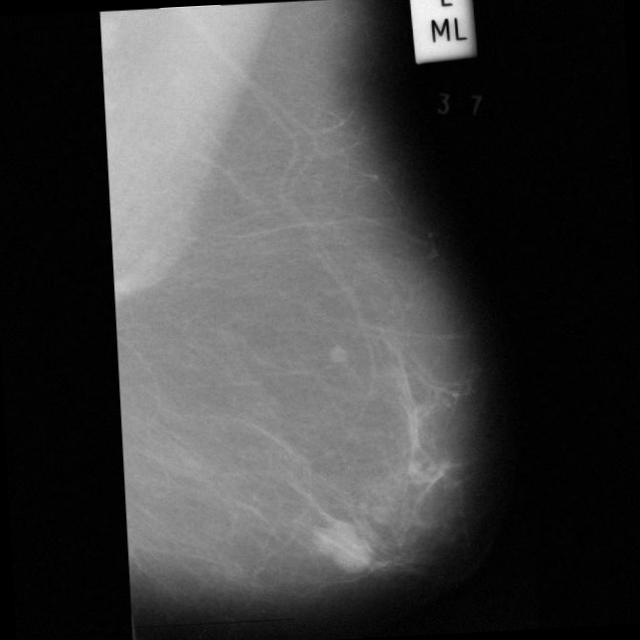CIRC: (334, 536, 374, 576)
